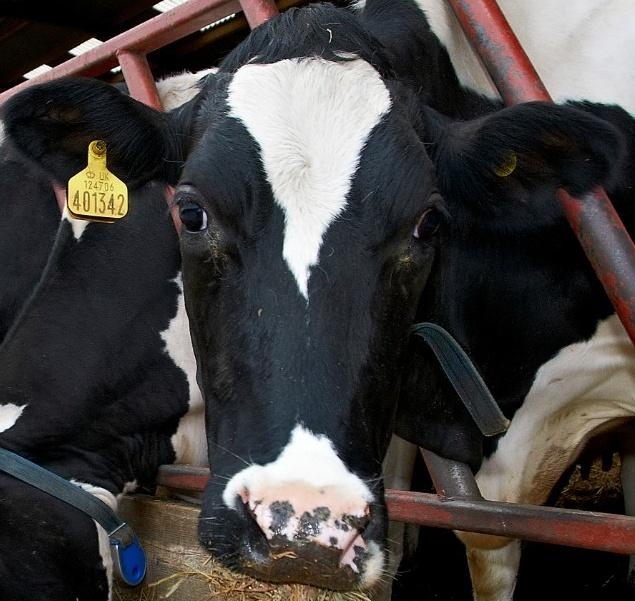muzzles: (198, 464, 403, 596)
